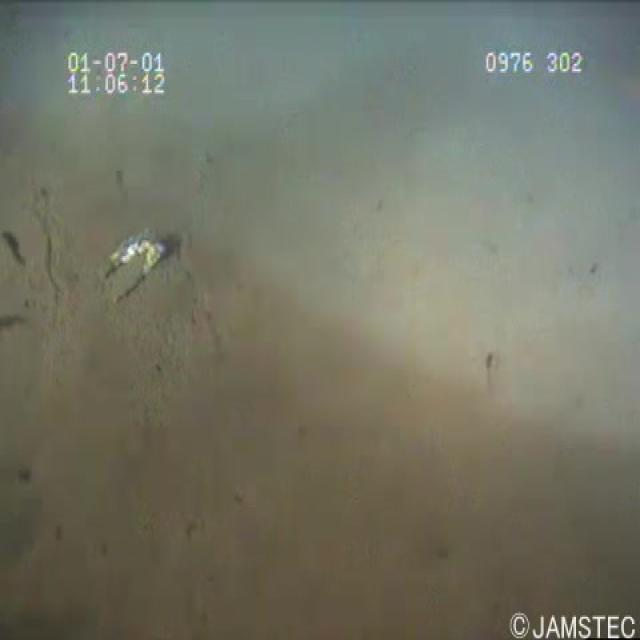plastic: (92, 220, 179, 318)
